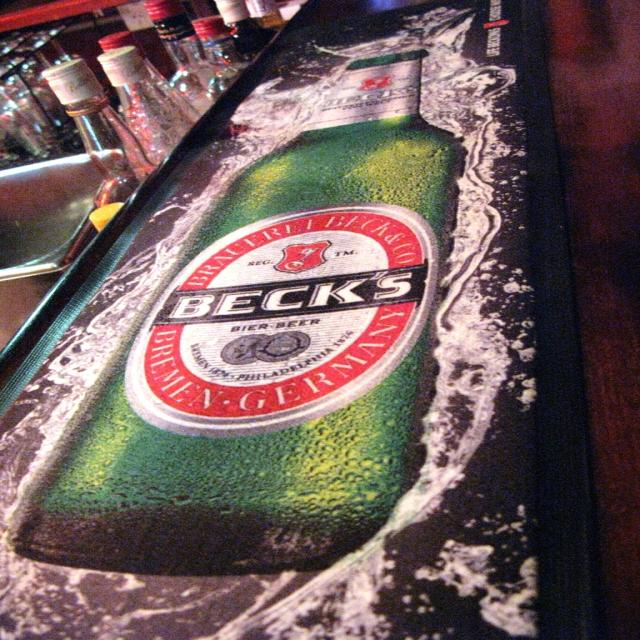becks: (125, 203, 439, 437)
